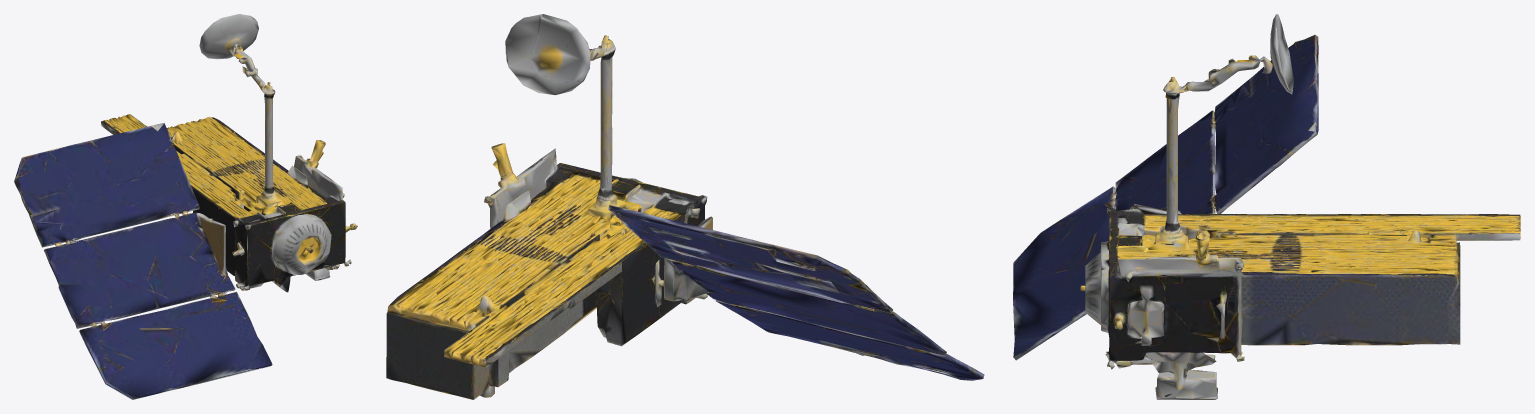
Rendered from chandrayaan2-low.glb.
3 views of the same model, side by side, from view 1: azimuth 30°, elevation 25°; view 2: azimuth 150°, elevation 25°; view 3: azimuth 270°, elevation 25° (orthographic). The views are drawn at different scales.
Bounding box in the file's own units: 1.69 × 1.56 × 1.9.
Materials: 1 (1 with a texture image).
